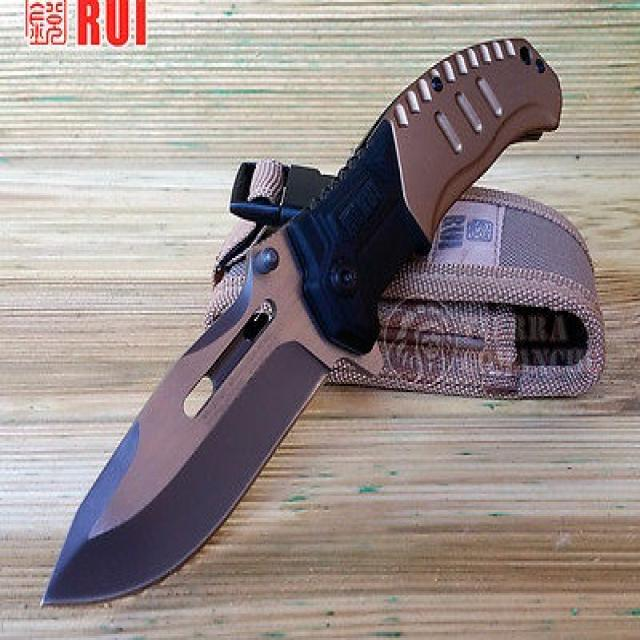knife: (40, 31, 561, 612)
